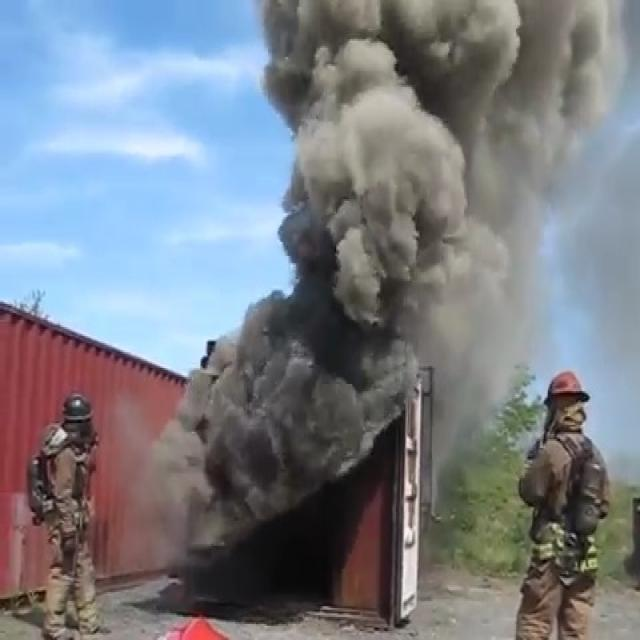Smoke: (214, 38, 612, 460)
